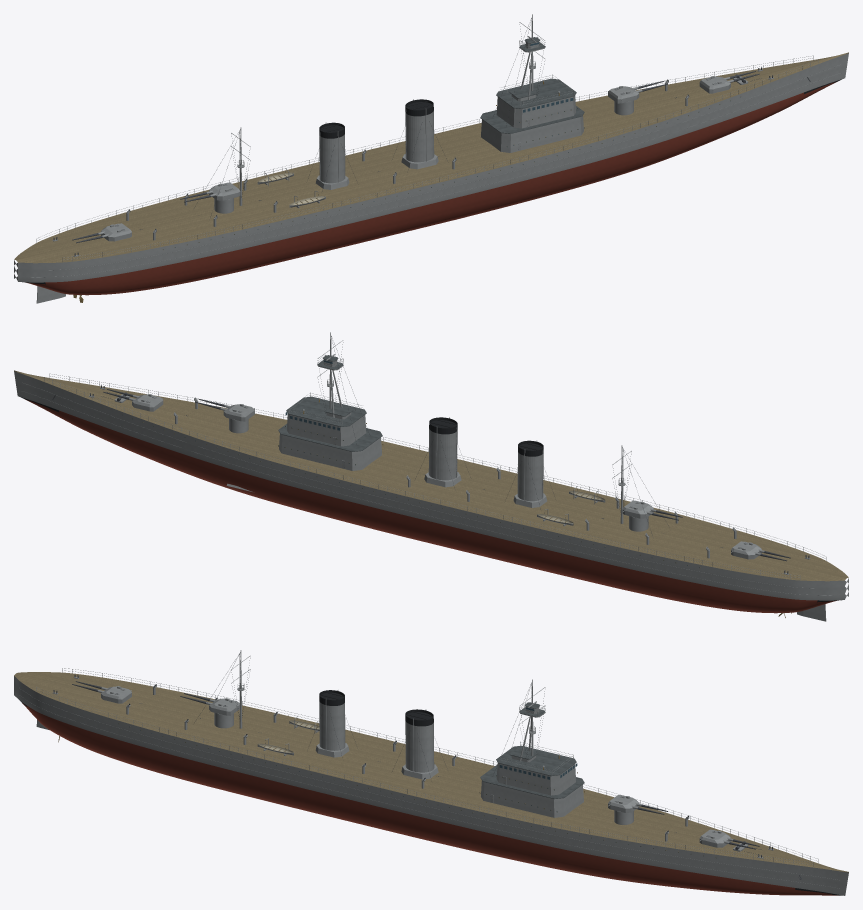
The model's file is fallback-ca.glb.
3 renders of one model, top to bottom at view 1: azimuth 30°, elevation 25°; view 2: azimuth 150°, elevation 25°; view 3: azimuth 330°, elevation 25°, orthographic.
Visible parts, largest first — view 1: Original CA custom-design concept; view 2: Original CA custom-design concept; view 3: Original CA custom-design concept.
Boxes of the visible parts, <box> form: Original CA custom-design concept: <box>14,14,848,303</box>; Original CA custom-design concept: <box>14,332,848,621</box>; Original CA custom-design concept: <box>14,650,848,895</box>.
Bounding box in the file's own units: 188 × 36.8 × 20.09.
Materials: 9 (8 with a texture image).
